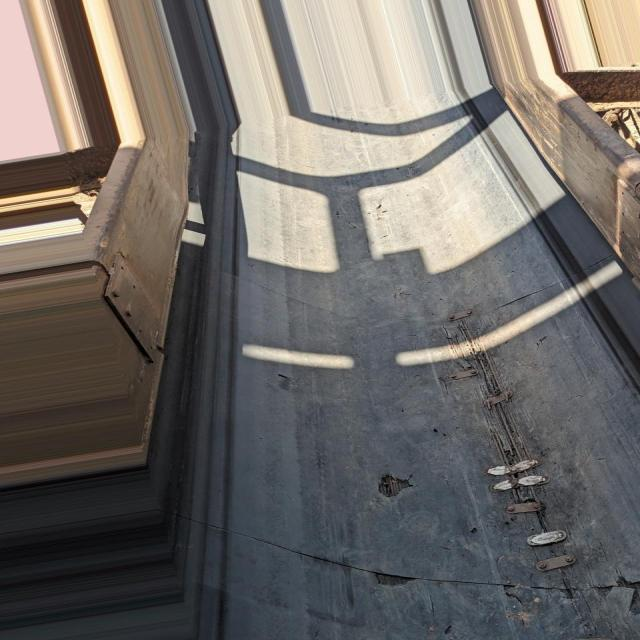Tear: (214, 533, 639, 630), (485, 287, 561, 310), (365, 464, 414, 496), (276, 373, 317, 397)
patch work: (419, 300, 602, 581)
